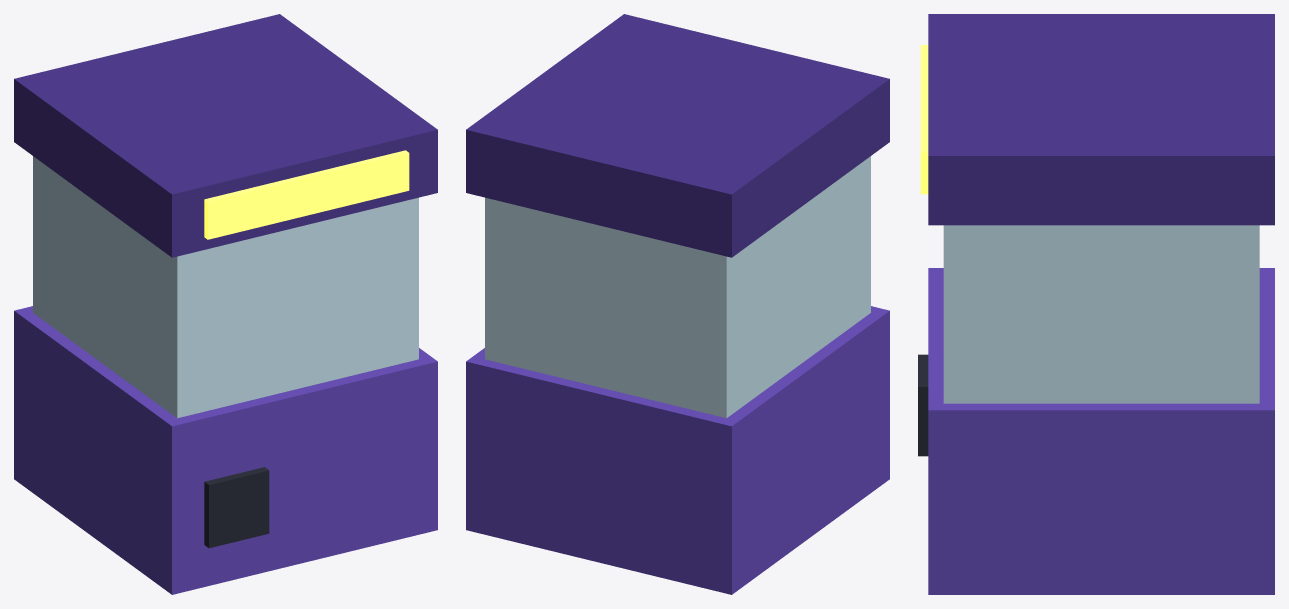
The model's file is claw-machine.glb.
3 views of the same model, side by side, from view 1: azimuth 30°, elevation 25°; view 2: azimuth 150°, elevation 25°; view 3: azimuth 270°, elevation 25° (orthographic). The views are drawn at different scales.
Visible parts, largest first — view 1: claw-machine; view 2: claw-machine; view 3: claw-machine.
Boxes of the visible parts, left/top/right/bottom form: claw-machine: left=14, top=14, right=437, bottom=594; claw-machine: left=466, top=14, right=889, bottom=594; claw-machine: left=918, top=14, right=1274, bottom=594.
Size of the model in its own units: 0.66 by 0.95 by 0.7.
Materials: 1 (1 with a texture image).
